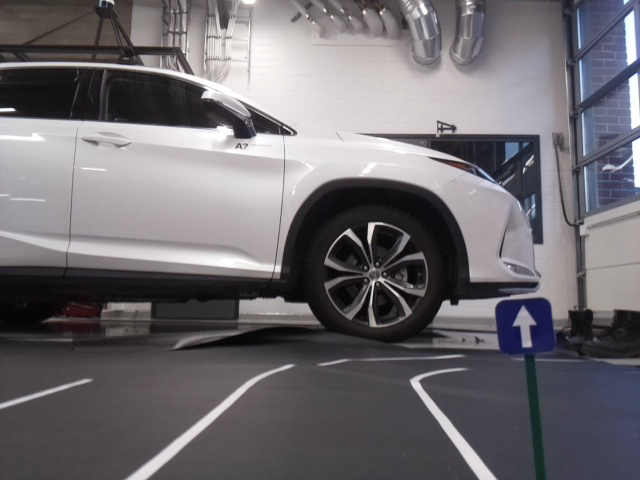OneWay: (495, 300, 555, 351)
